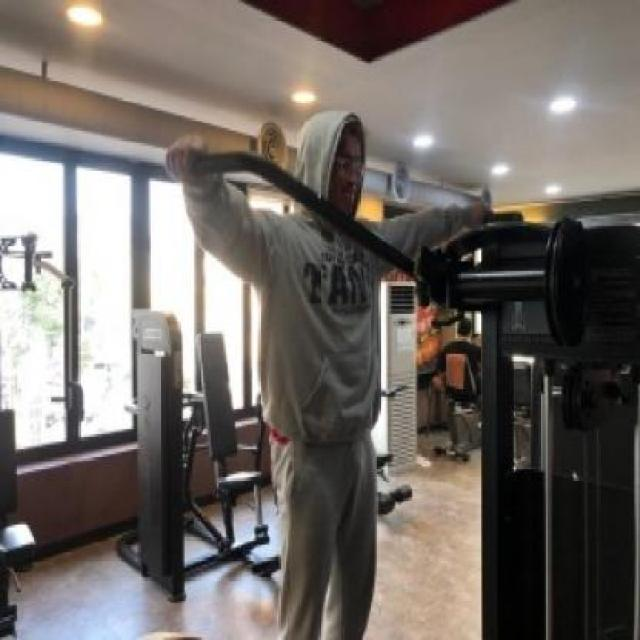lateral raises machine: (180, 149, 640, 640)
